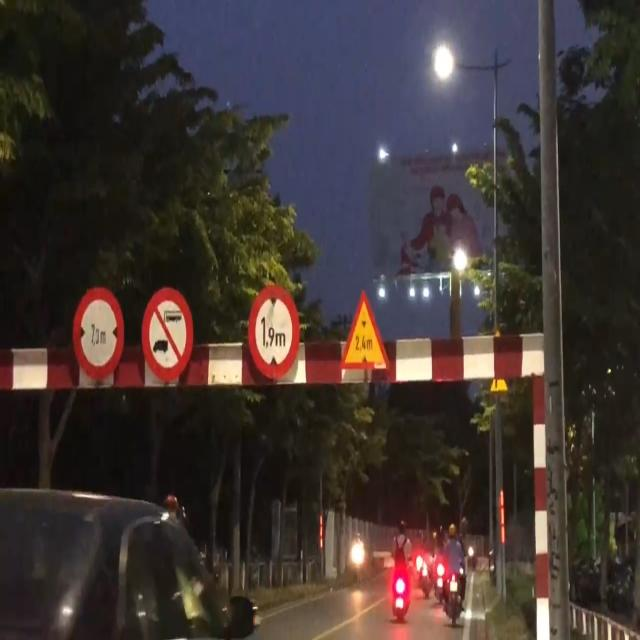Bien bao cam xe oto khach va xe oto tai: (140, 276, 198, 384)
Bien bao chieu cao tinh khong thuc te: (336, 285, 392, 376)
Bien bao han che chieu cao: (246, 273, 304, 398)
